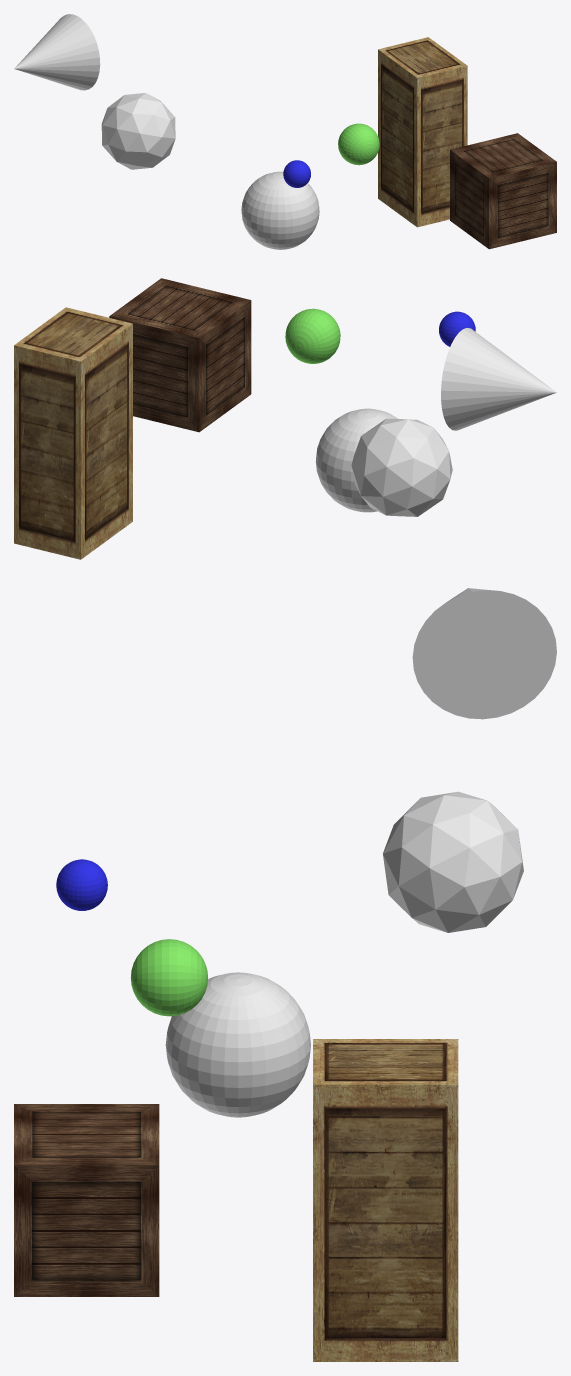
File: complex.glb
3 renders of one model, top to bottom at view 1: azimuth 30°, elevation 25°; view 2: azimuth 150°, elevation 25°; view 3: azimuth 270°, elevation 25°, orthographic. The views are drawn at different scales.
Visible parts, largest first — view 1: Small cube, Cube, Sphere, Icosphere, Cone, Smaller 1, Smaller 2; view 2: Small cube, Cube, Icosphere, Cone, Sphere, Smaller 1, Smaller 2; view 3: Small cube, Cube, Sphere, Icosphere, Cone, Smaller 1, Smaller 2.
Part boxes in pixels (<box>): Small cube: <box>378,37,467,227</box>; Cube: <box>450,133,556,249</box>; Sphere: <box>241,171,319,249</box>; Icosphere: <box>101,93,175,169</box>; Cone: <box>14,14,100,90</box>; Smaller 1: <box>338,123,379,165</box>; Smaller 2: <box>283,160,310,187</box>; Small cube: <box>14,307,132,559</box>; Cube: <box>109,278,251,432</box>; Icosphere: <box>351,418,452,516</box>; Cone: <box>441,328,556,430</box>; Sphere: <box>316,408,397,512</box>; Smaller 1: <box>285,308,340,363</box>; Smaller 2: <box>439,311,475,346</box>; Small cube: <box>313,1039,458,1361</box>; Cube: <box>14,1104,159,1296</box>; Sphere: <box>165,972,310,1117</box>; Icosphere: <box>383,791,523,932</box>; Cone: <box>412,588,556,719</box>; Smaller 1: <box>130,939,207,1016</box>; Smaller 2: <box>56,859,107,910</box>.
Size of the model in its own units: 12.4 by 7 by 7.47.
Materials: 4 (2 with a texture image).
